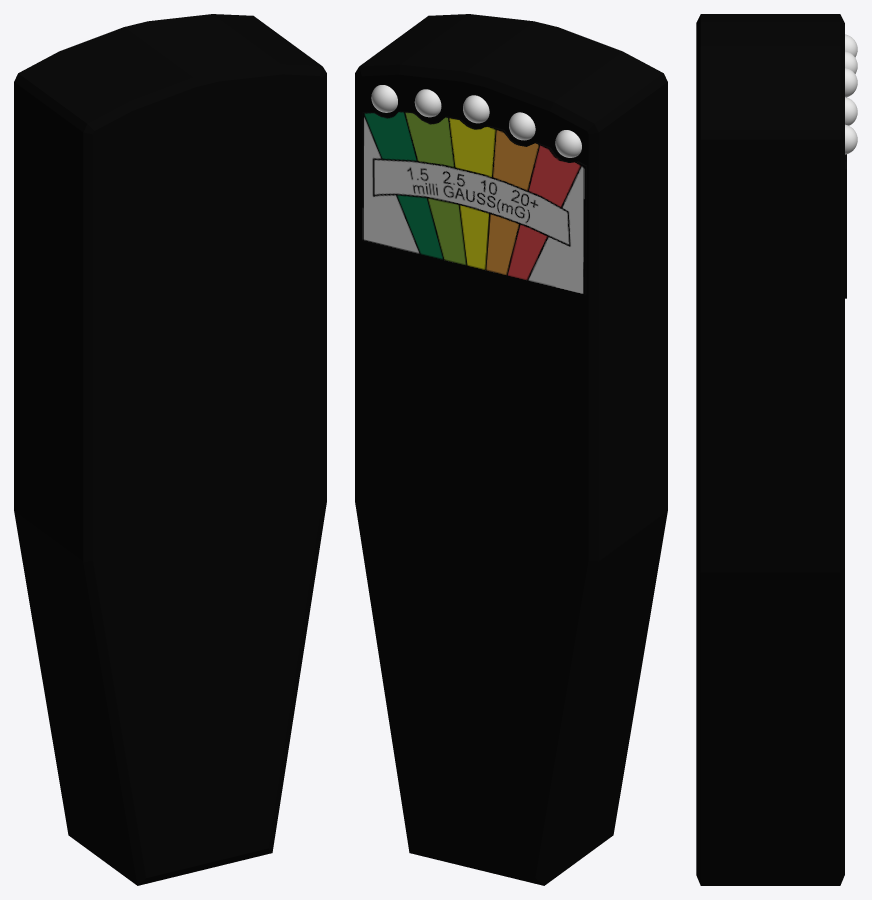
The model's file is EMF Reader.fbx.
The picture shows the model from 3 angles, left to right: view 1: azimuth 30°, elevation 25°; view 2: azimuth 150°, elevation 25°; view 3: azimuth 270°, elevation 25°; orthographic projection.
Parts seen in each view (by area): view 1: object; view 2: object, panel; view 3: object.
Boxes of the visible parts, box(x1,y1,x2,y2) form: object: box(14, 14, 326, 885); object: box(355, 14, 667, 885); panel: box(362, 111, 586, 295); object: box(696, 14, 844, 885).
Bounding box in the file's own units: 29.11 × 90.72 × 16.58.
Materials: 2 (2 with a texture image).
